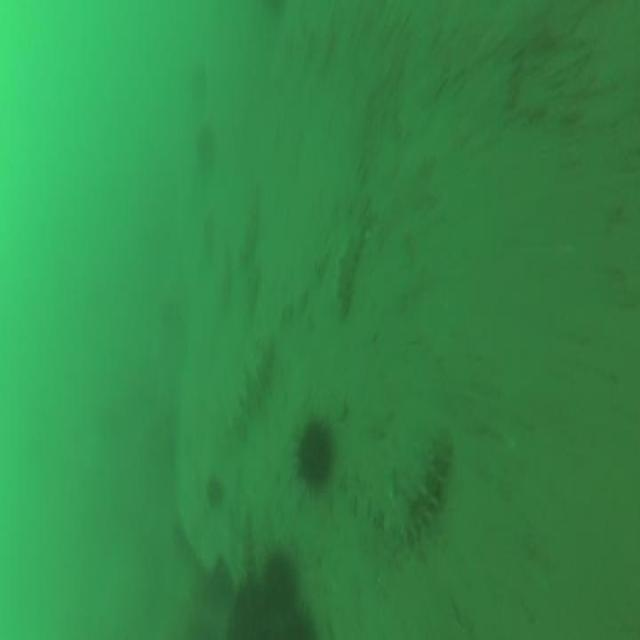echinus: (228, 583, 268, 640), (294, 423, 329, 482), (263, 600, 312, 640), (262, 550, 292, 596), (204, 479, 222, 504)
holothurian: (389, 428, 451, 552), (228, 335, 276, 433), (334, 226, 364, 321)
